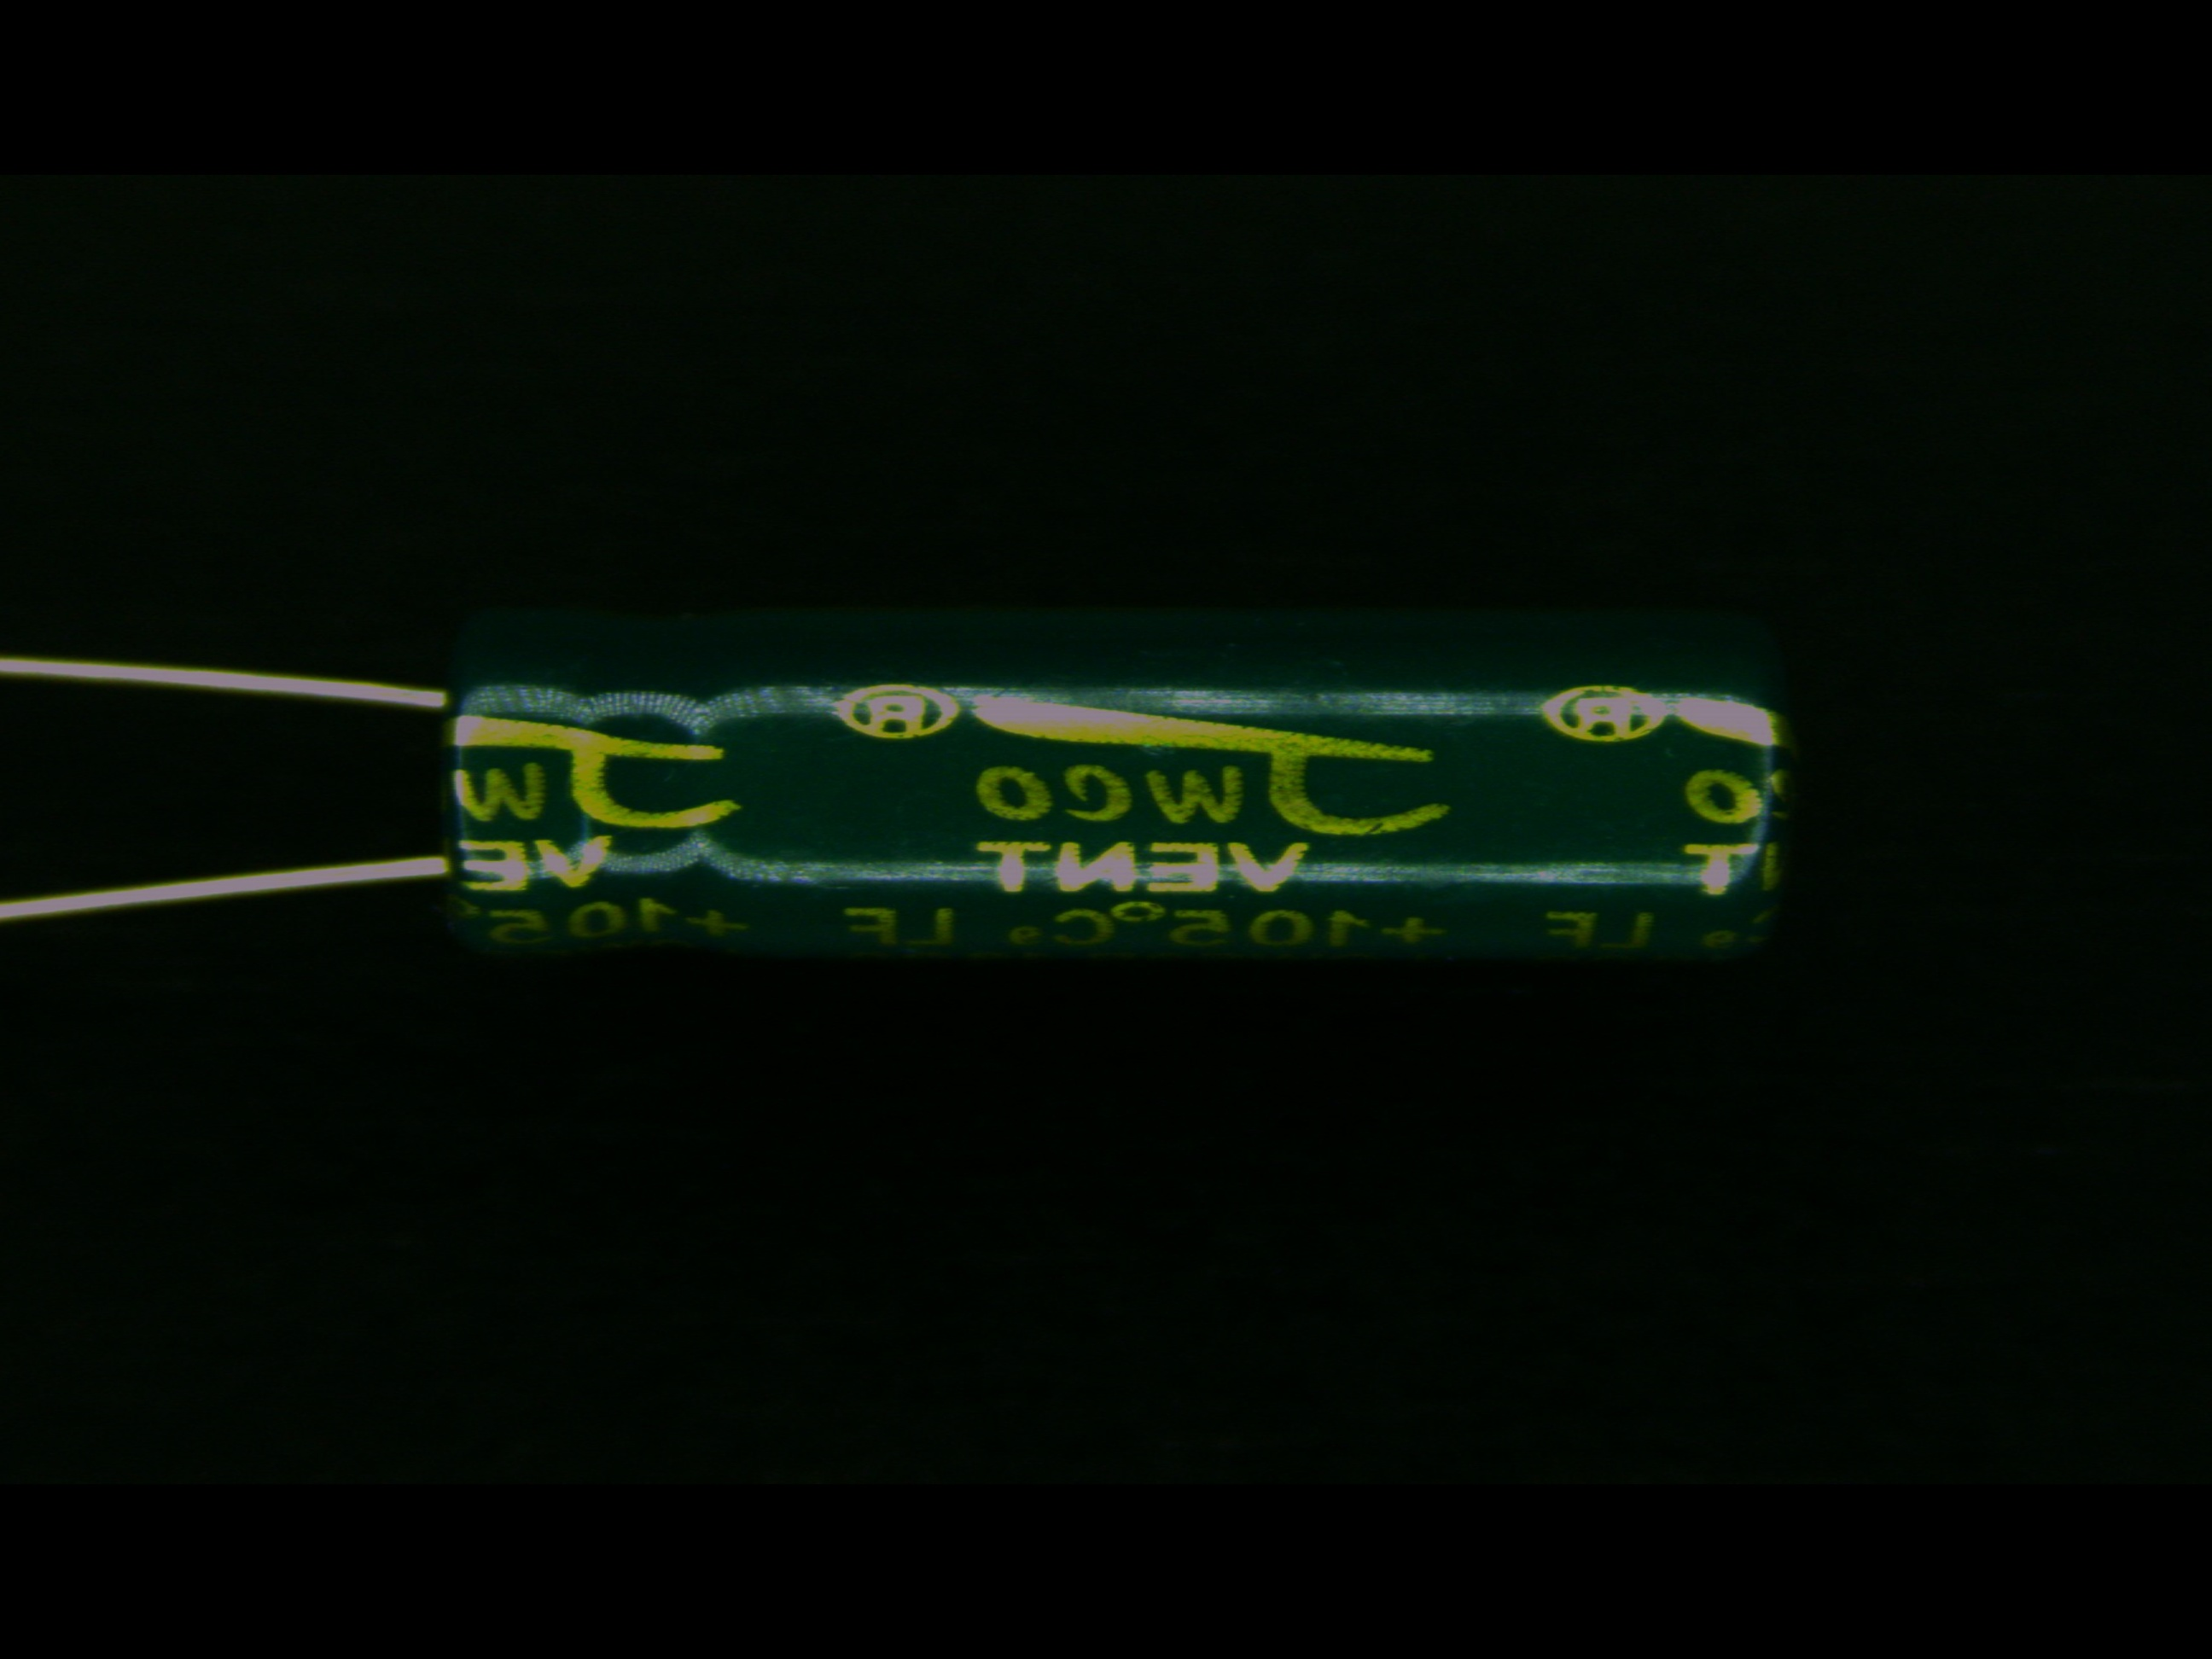c1: (235, 606, 1797, 967)
